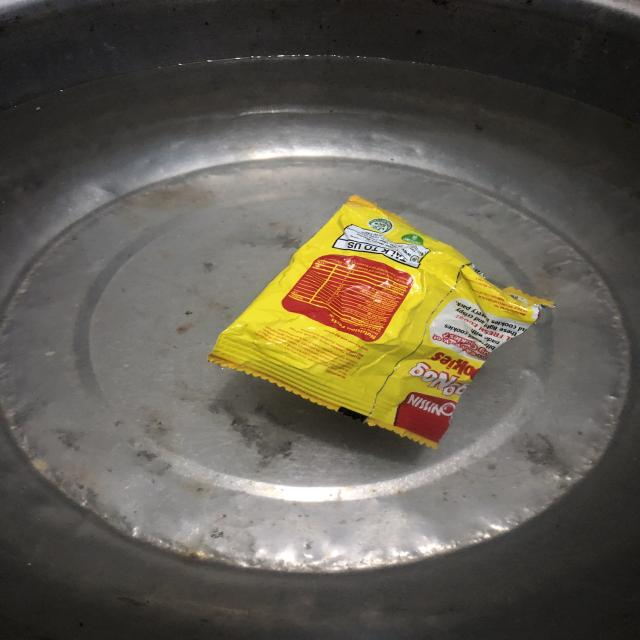Plastic Wrapper: (208, 195, 554, 449)
